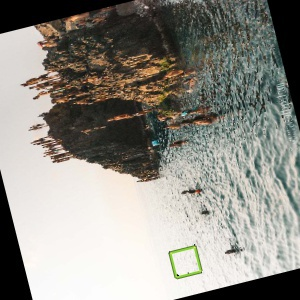square: (167, 245, 206, 280)
